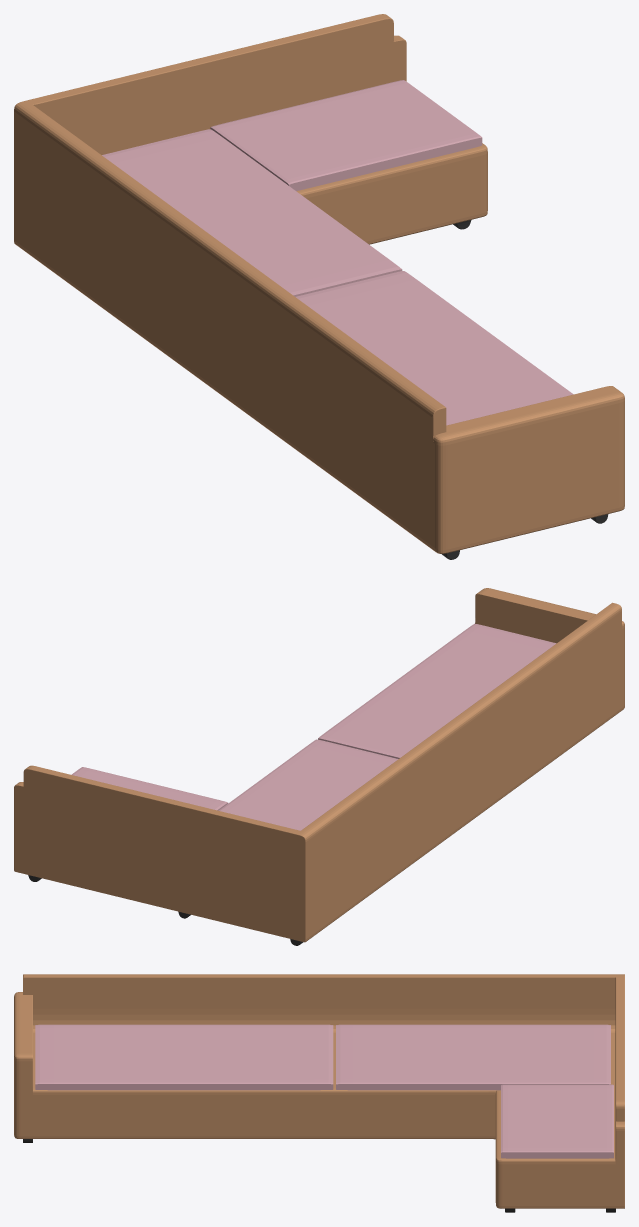
Rendered from Lshape Chair.fbx.
3 renders of one model, top to bottom at view 1: azimuth 30°, elevation 25°; view 2: azimuth 150°, elevation 25°; view 3: azimuth 270°, elevation 25°, orthographic. The views are drawn at different scales.
Parts seen in each view (by area): view 1: Cube, Cube.001, Cube.002, Cube.003; view 2: Cube, Cube.002, Cube.001, Cube.003; view 3: Cube, Cube.002, Cube.001, Cube.003.
Part boxes in pixels (left/top/right/bottom): Cube: left=14, top=14, right=624, bottom=559; Cube.001: left=102, top=129, right=402, bottom=296; Cube.002: left=296, top=271, right=573, bottom=425; Cube.003: left=210, top=80, right=482, bottom=191; Cube: left=14, top=588, right=624, bottom=945; Cube.002: left=318, top=623, right=556, bottom=758; Cube.001: left=218, top=739, right=398, bottom=830; Cube.003: left=71, top=767, right=228, bottom=810; Cube: left=14, top=974, right=624, bottom=1212; Cube.002: left=35, top=1024, right=333, bottom=1090; Cube.001: left=336, top=1024, right=610, bottom=1090; Cube.003: left=501, top=1084, right=613, bottom=1158.
Bounding box in the file's own units: 411 × 157 × 783.
